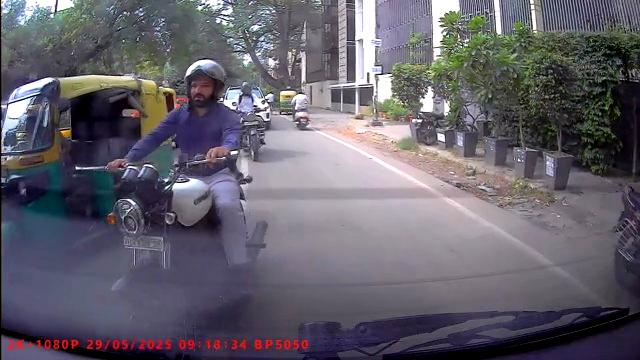motorcycle_with_helmet: (83, 59, 272, 333), (237, 79, 268, 163), (292, 87, 311, 131)
